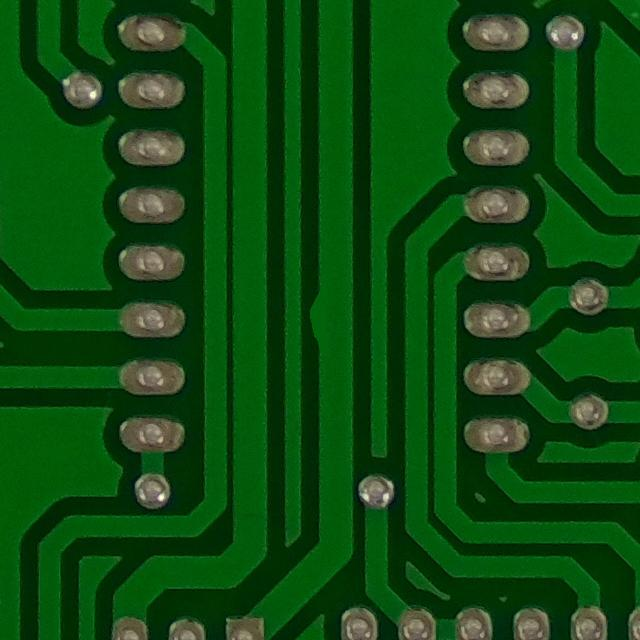spur: (293, 277, 347, 363)
